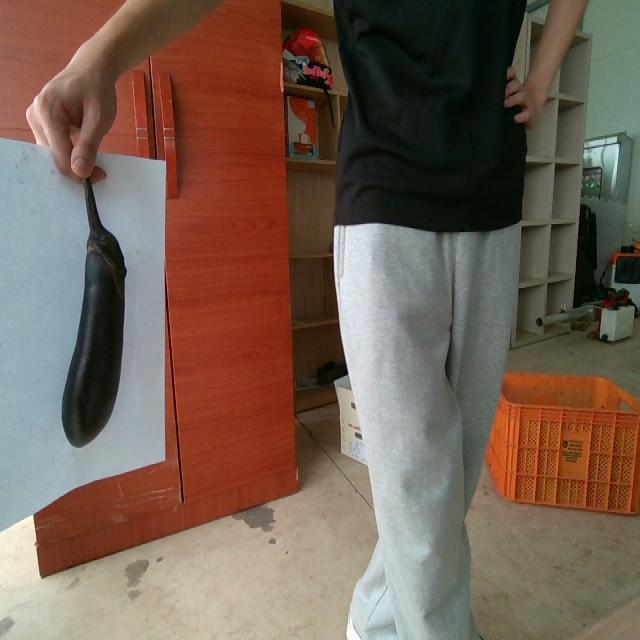Egg plant: (62, 179, 126, 447)
